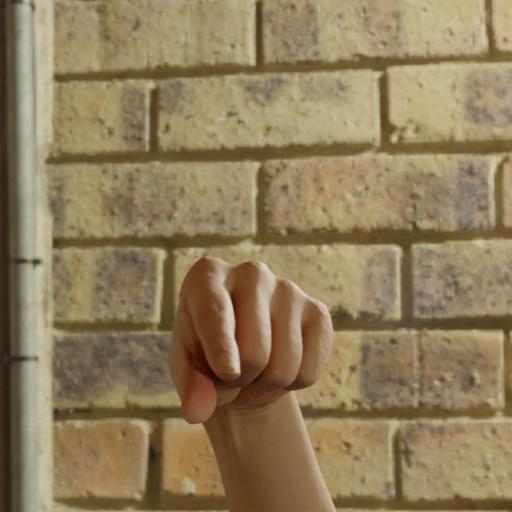Q: (150, 237, 362, 512)
